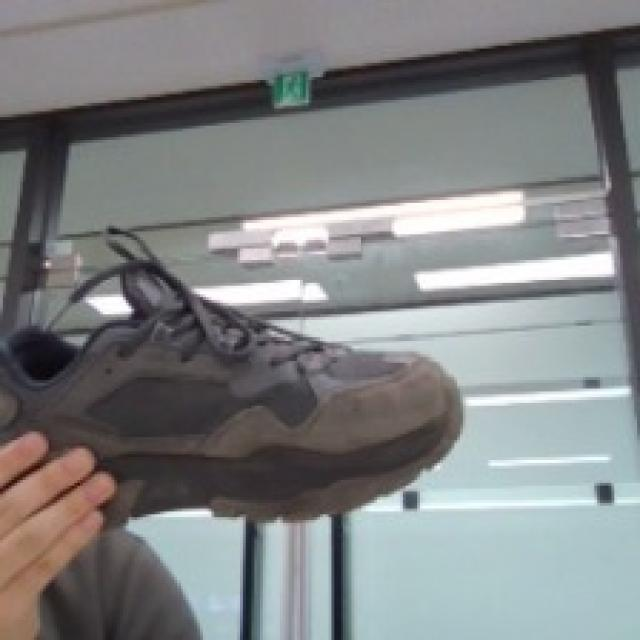shoe: (0, 191, 440, 586)
